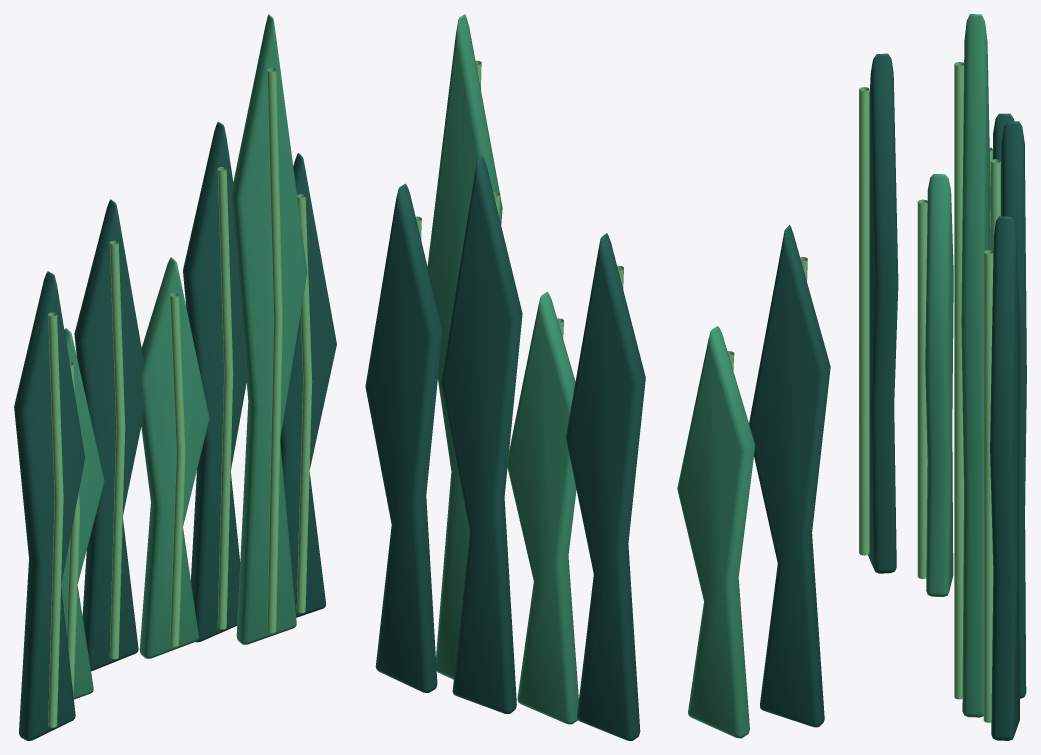
Rendered from r004_reef_kelp_cards_kelp_02.glb.
3 views of the same model, side by side, from view 1: azimuth 30°, elevation 25°; view 2: azimuth 150°, elevation 25°; view 3: azimuth 270°, elevation 25° (orthographic). The views are drawn at different scales.
Visible parts, largest first — view 1: r004_reef_kelp_cards_kelp_02.001; view 2: r004_reef_kelp_cards_kelp_02.001; view 3: r004_reef_kelp_cards_kelp_02.001.
Part boxes in pixels (box(x1,y1,x2,y2)): r004_reef_kelp_cards_kelp_02.001: box(14, 14, 336, 740); r004_reef_kelp_cards_kelp_02.001: box(365, 14, 830, 740); r004_reef_kelp_cards_kelp_02.001: box(859, 14, 1026, 740).
Size of the model in its own units: 2.29 by 3.65 by 0.7924.
